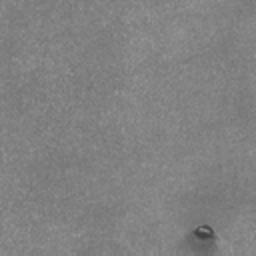Iron sheet ash: (192, 224, 215, 244)
